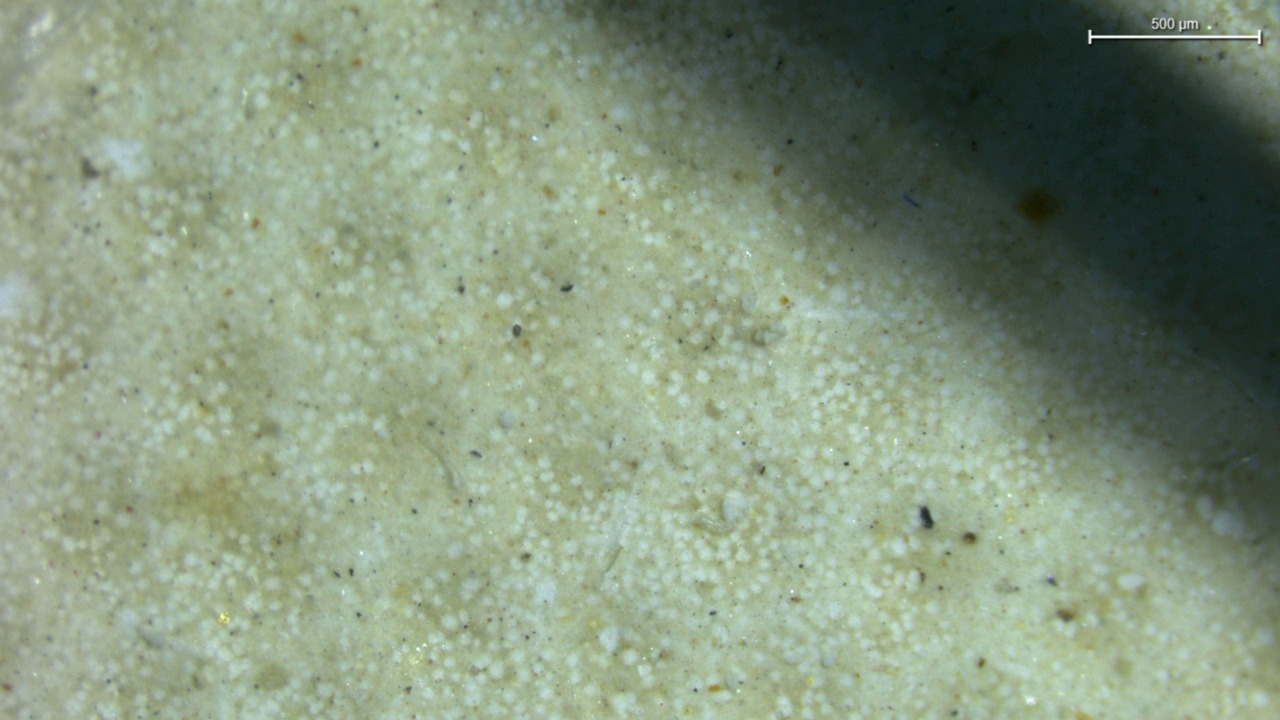microplastic_fragment: (722, 489, 748, 522), (752, 324, 785, 346)
